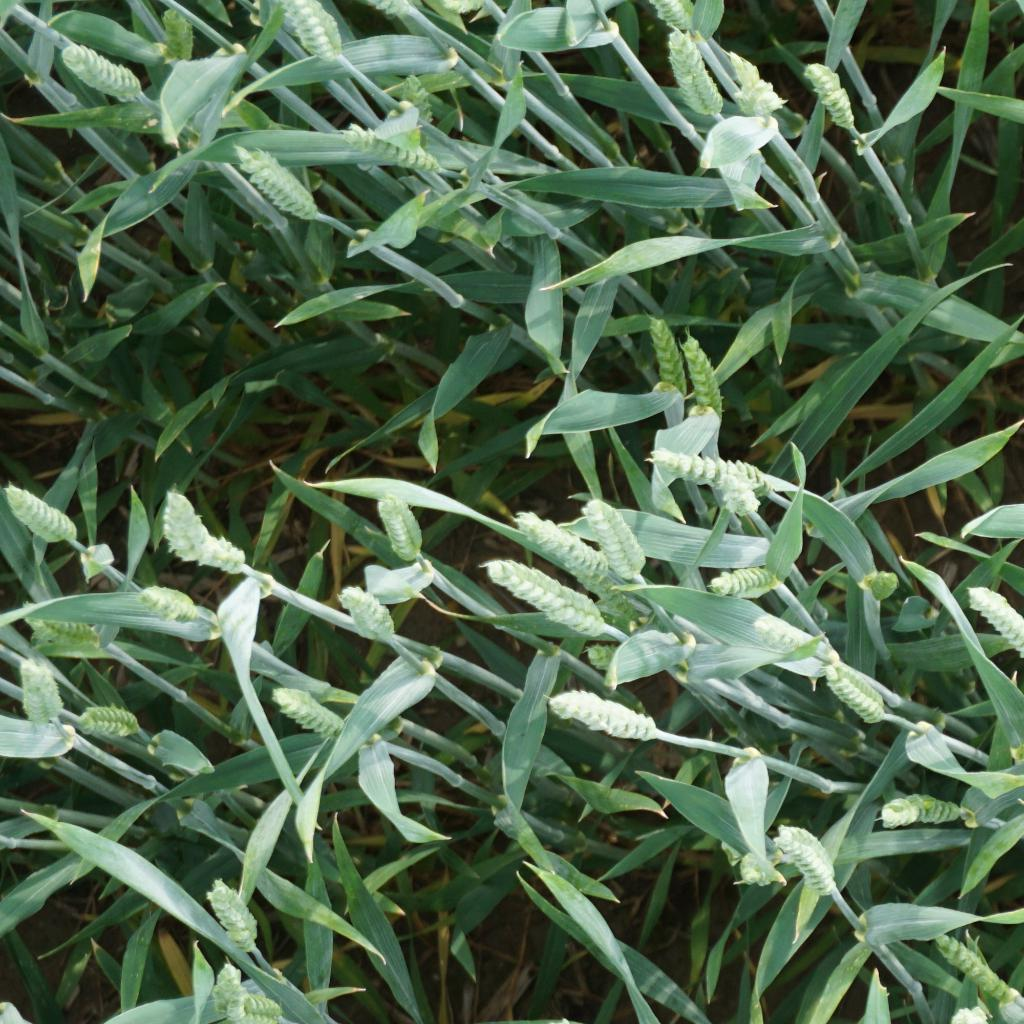0-0: (485, 557, 604, 638), (163, 491, 246, 578), (230, 143, 321, 222), (508, 509, 609, 580), (928, 929, 1015, 1004), (546, 688, 658, 741), (576, 500, 646, 581), (332, 119, 439, 171), (650, 453, 771, 497), (773, 818, 839, 898), (57, 46, 144, 104), (964, 587, 1024, 662), (669, 29, 717, 119), (271, 683, 350, 736), (726, 50, 786, 119), (204, 879, 260, 952), (5, 487, 76, 544), (803, 62, 856, 137), (822, 662, 884, 726), (21, 601, 103, 649), (278, 0, 341, 62), (580, 568, 644, 628), (876, 792, 975, 830), (216, 976, 294, 1024), (681, 336, 723, 422), (335, 584, 395, 642), (16, 659, 65, 727), (377, 493, 423, 563), (707, 564, 795, 600), (651, 316, 685, 399), (649, 0, 707, 45), (202, 960, 244, 1022), (752, 615, 822, 652), (137, 586, 196, 625), (158, 7, 195, 65), (80, 706, 142, 740), (714, 476, 759, 516), (734, 847, 780, 886), (583, 643, 641, 672), (407, 75, 433, 129), (863, 569, 900, 603)
